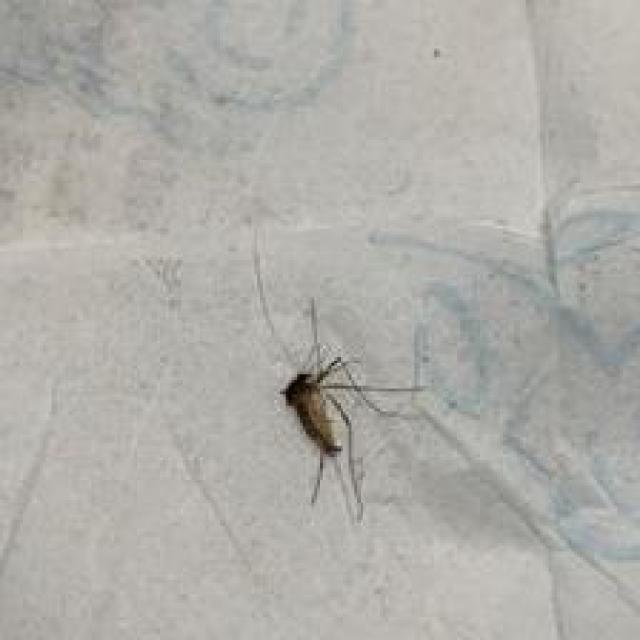Culex: (248, 225, 428, 526)
